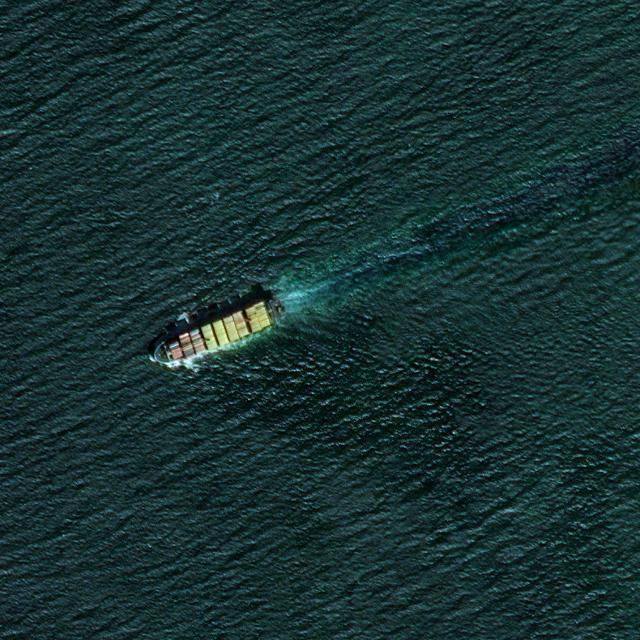Container Ship: (148, 297, 279, 373)
